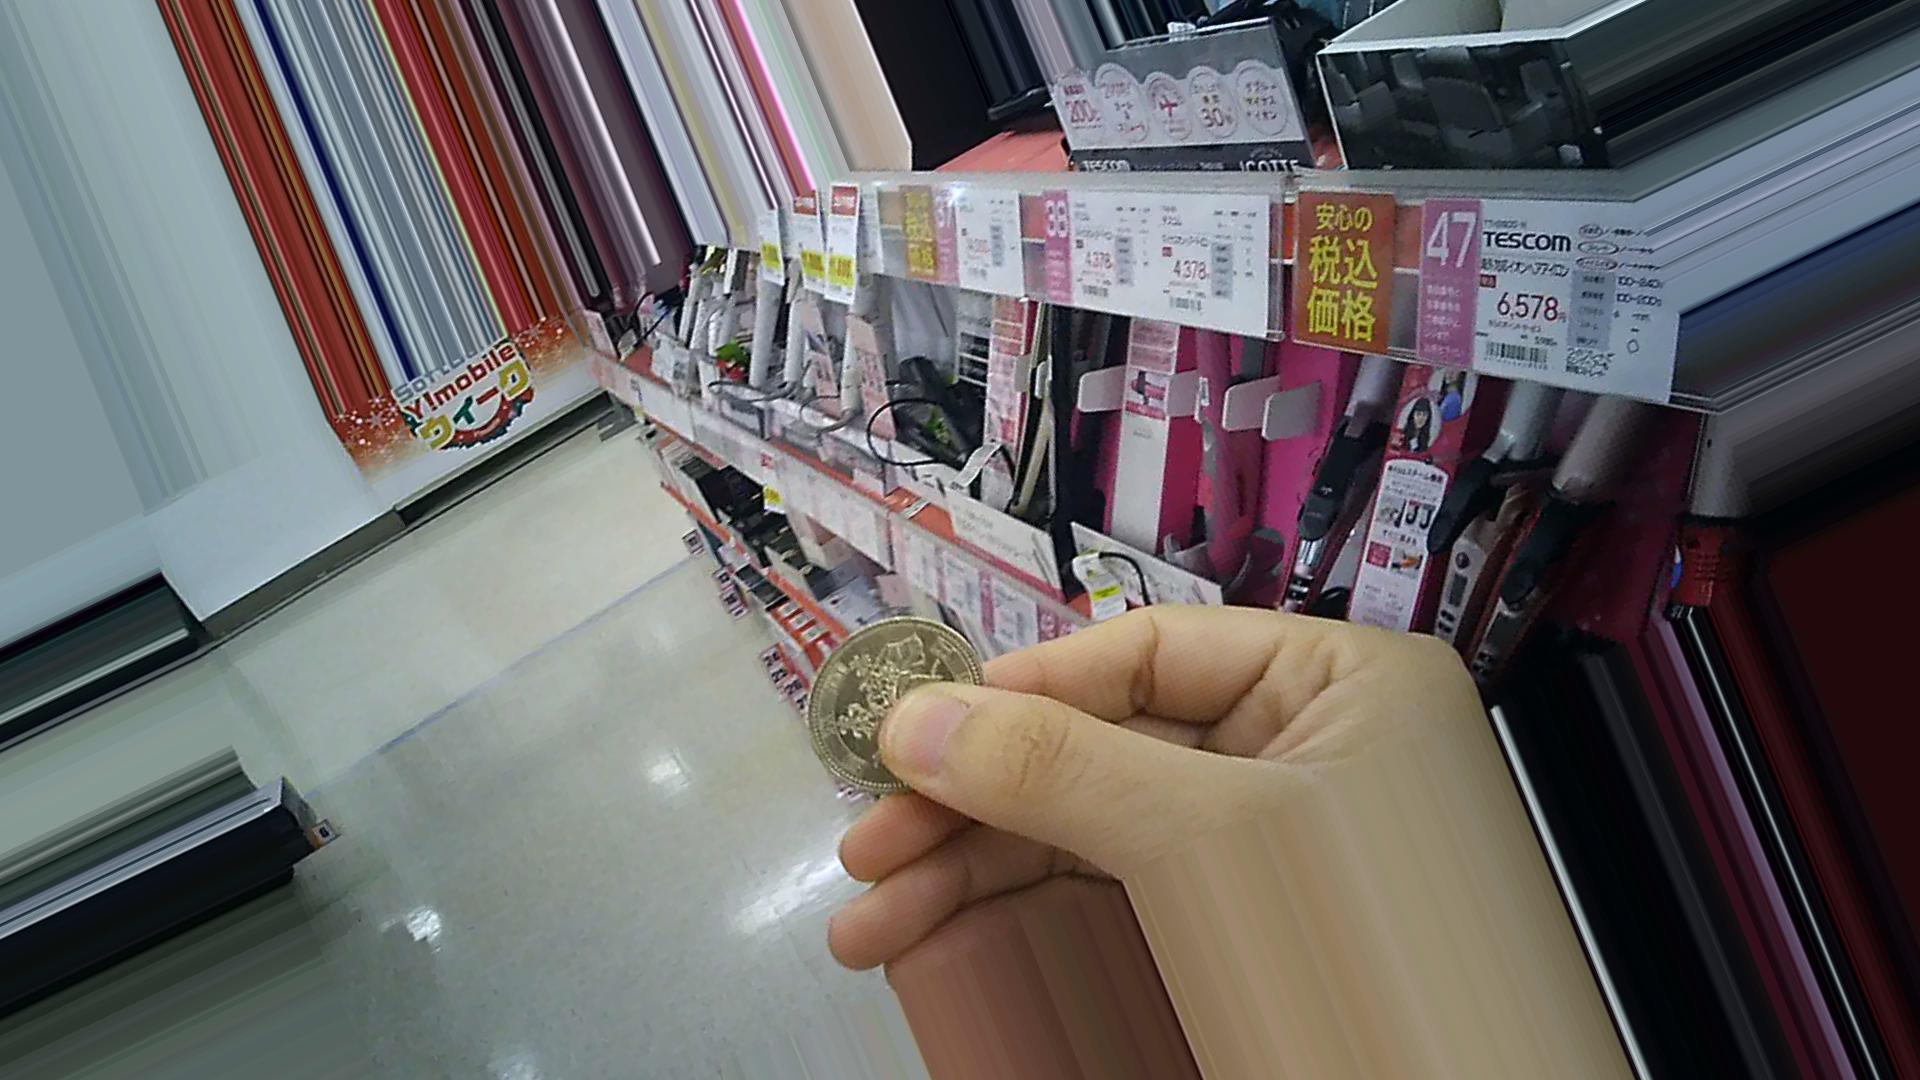500 Yen: (796, 616, 990, 787)
